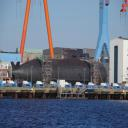submarine: (12, 50, 108, 85)
